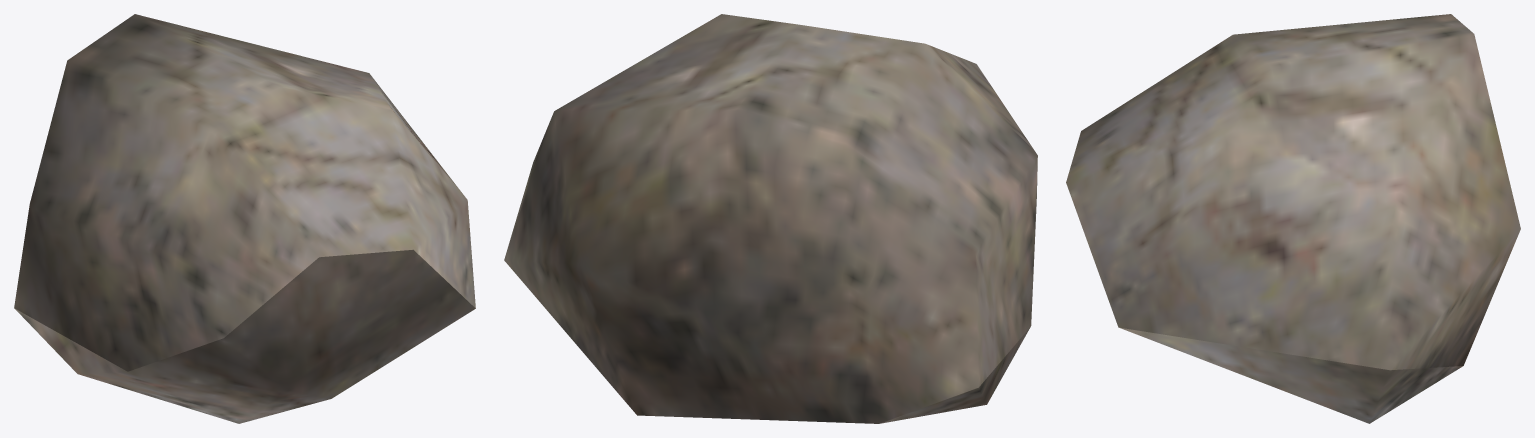
The model's file is SM_Stone09.FBX.
3 views of the same model, side by side, from view 1: azimuth 30°, elevation 25°; view 2: azimuth 150°, elevation 25°; view 3: azimuth 270°, elevation 25° (orthographic). The views are drawn at different scales.
Parts seen in each view (by area): view 1: SM_Stone09; view 2: SM_Stone09; view 3: SM_Stone09.
Part boxes in pixels (x1,y1,x2,y2): SM_Stone09: (14, 14, 475, 423); SM_Stone09: (504, 14, 1037, 423); SM_Stone09: (1066, 14, 1520, 423).
Size of the model in its own units: 80.12 by 77.52 by 64.36.
